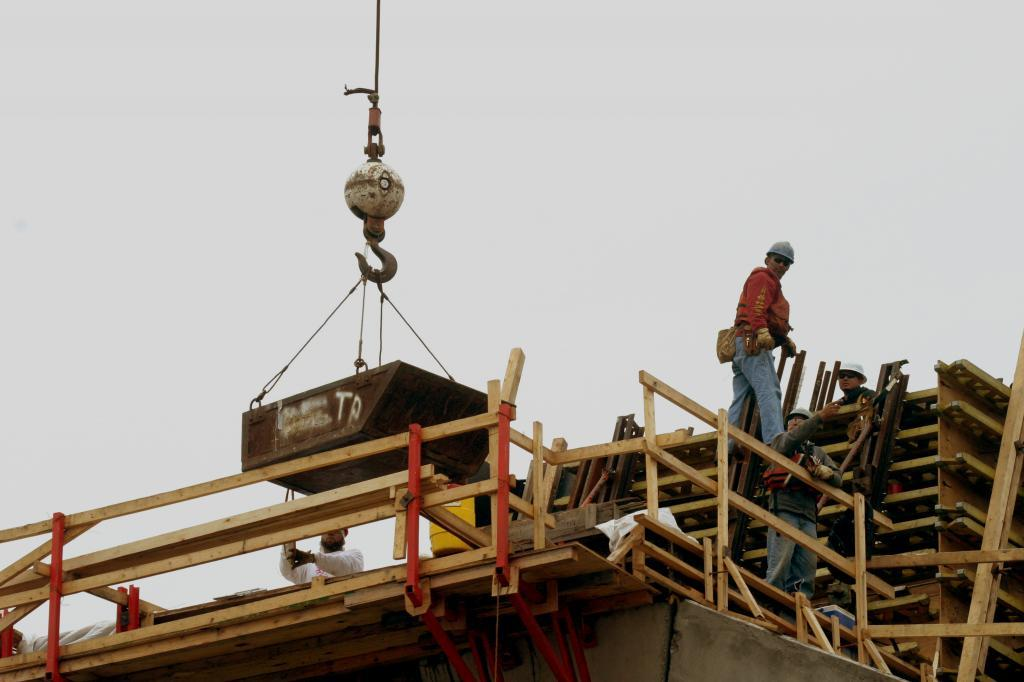face: (770, 253, 789, 278), (321, 527, 343, 547), (838, 370, 858, 389), (787, 414, 806, 432)
